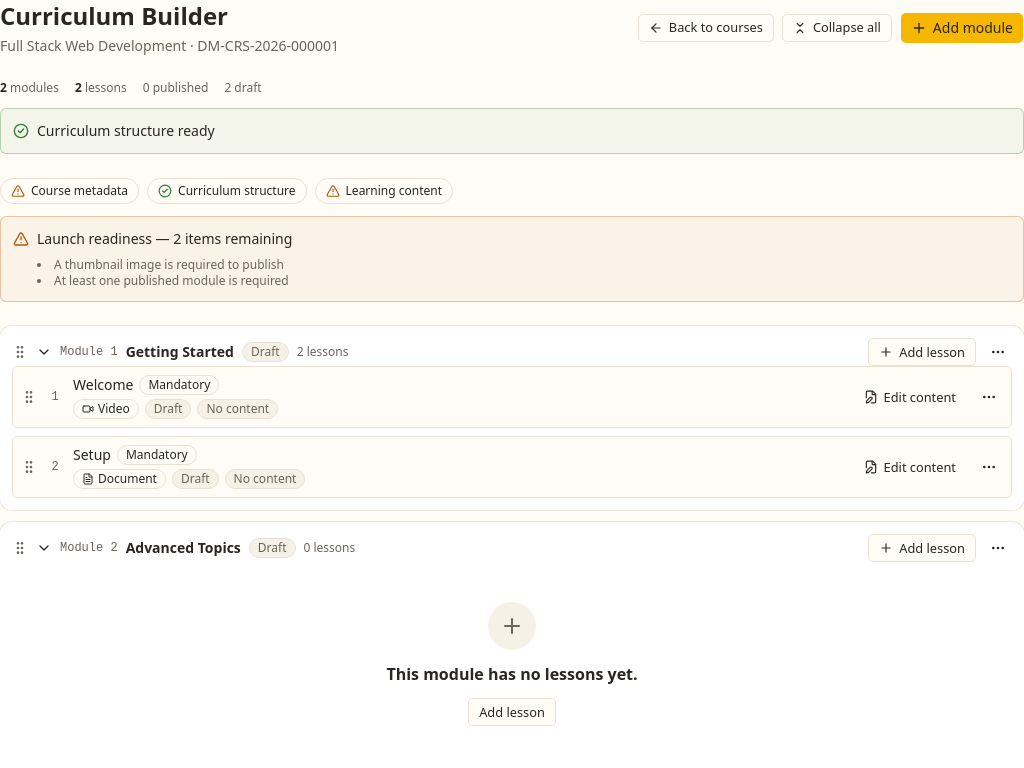
Test: CourseCurriculumPage › deletes a module after confirmation
Expected: the text "Advanced Topics" is shown, [126,538,241,558]
Click the button named "actions for module advanced topics" at (998, 548), box [984,534,1012,562]
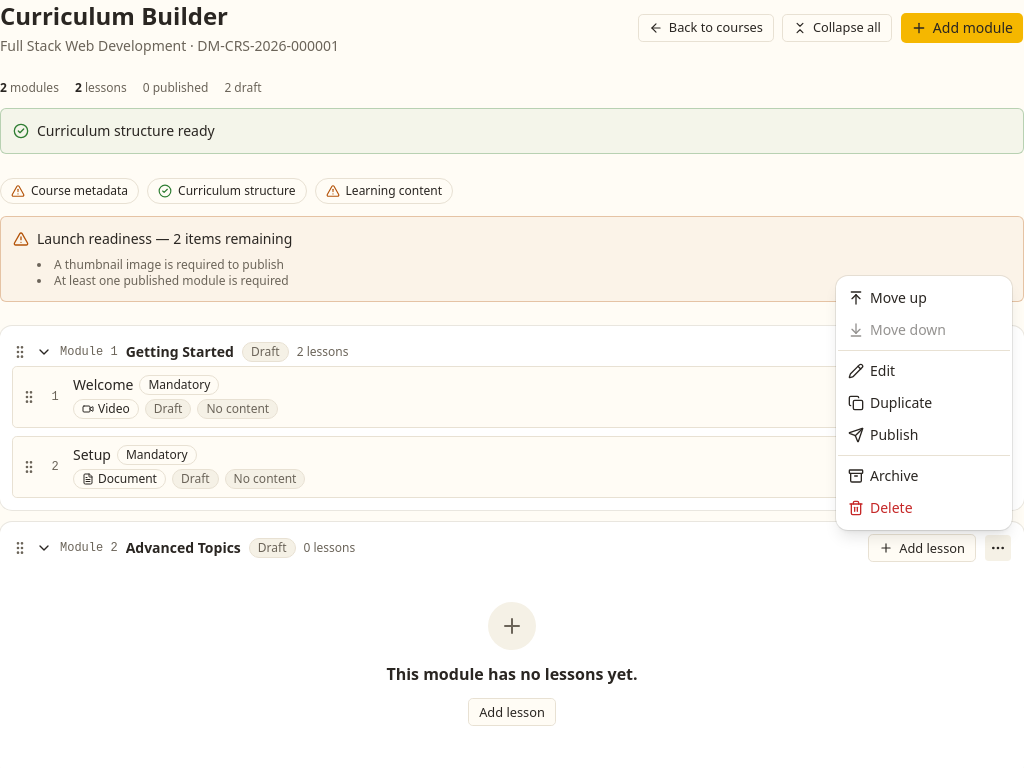
Click the menu item "Delete" at (880, 508), box [848,498,913,517]
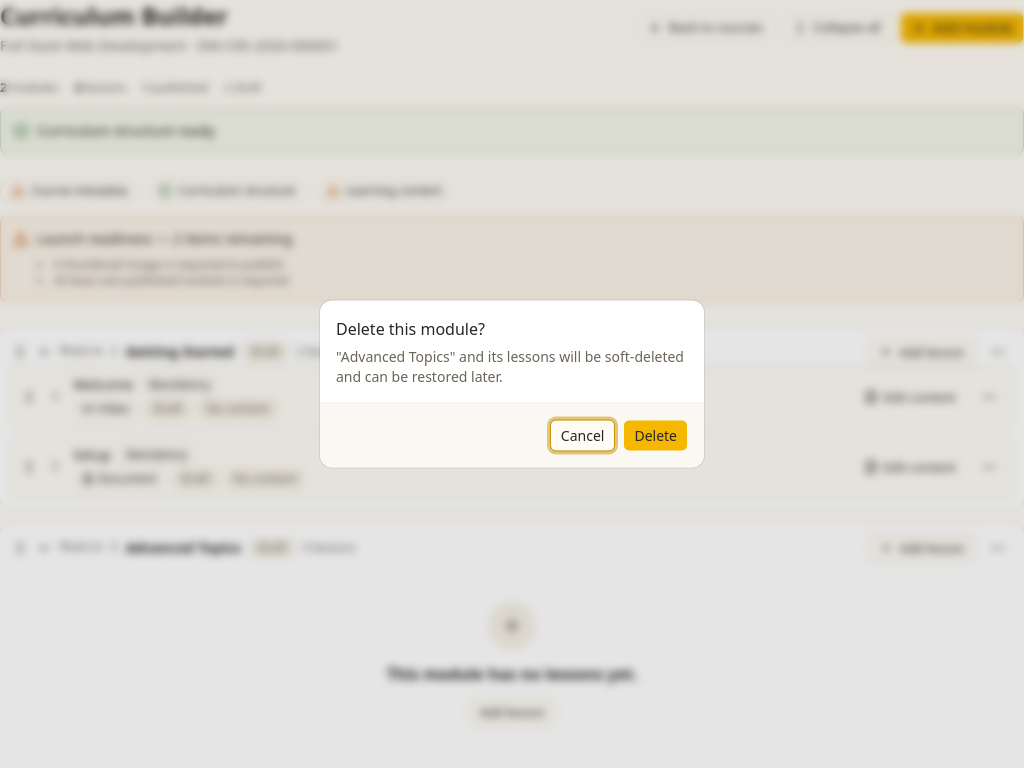
Click the button "Delete" at (656, 436), box [623,420,688,452]
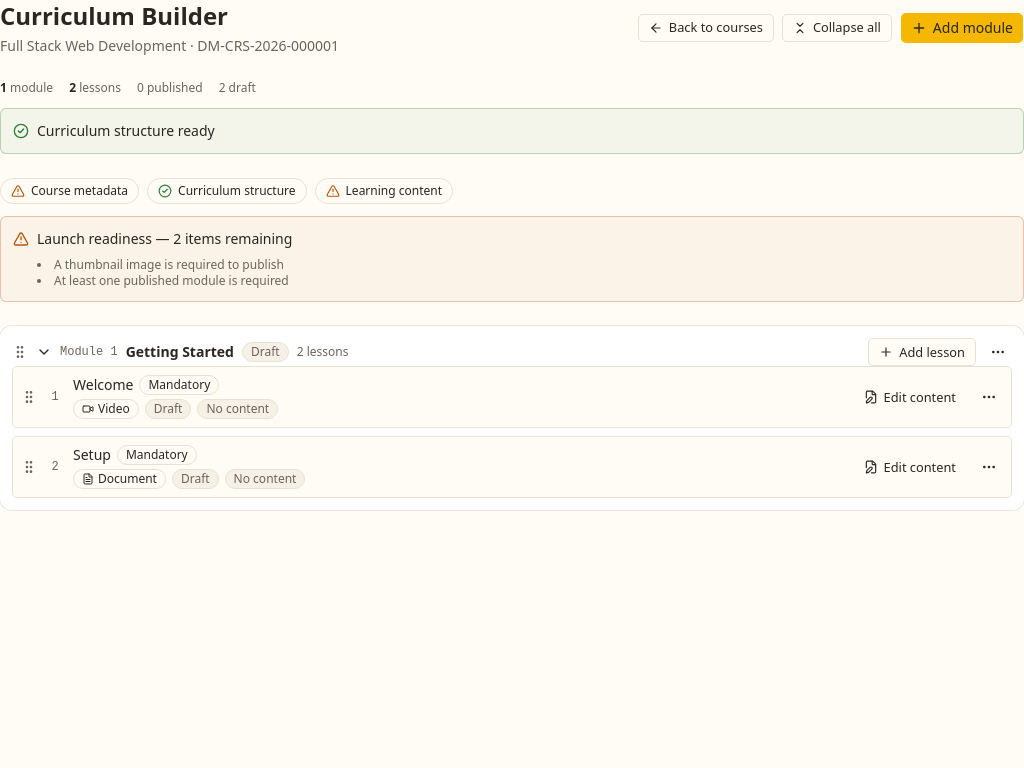
Result: the button "Advanced Topics" is gone
